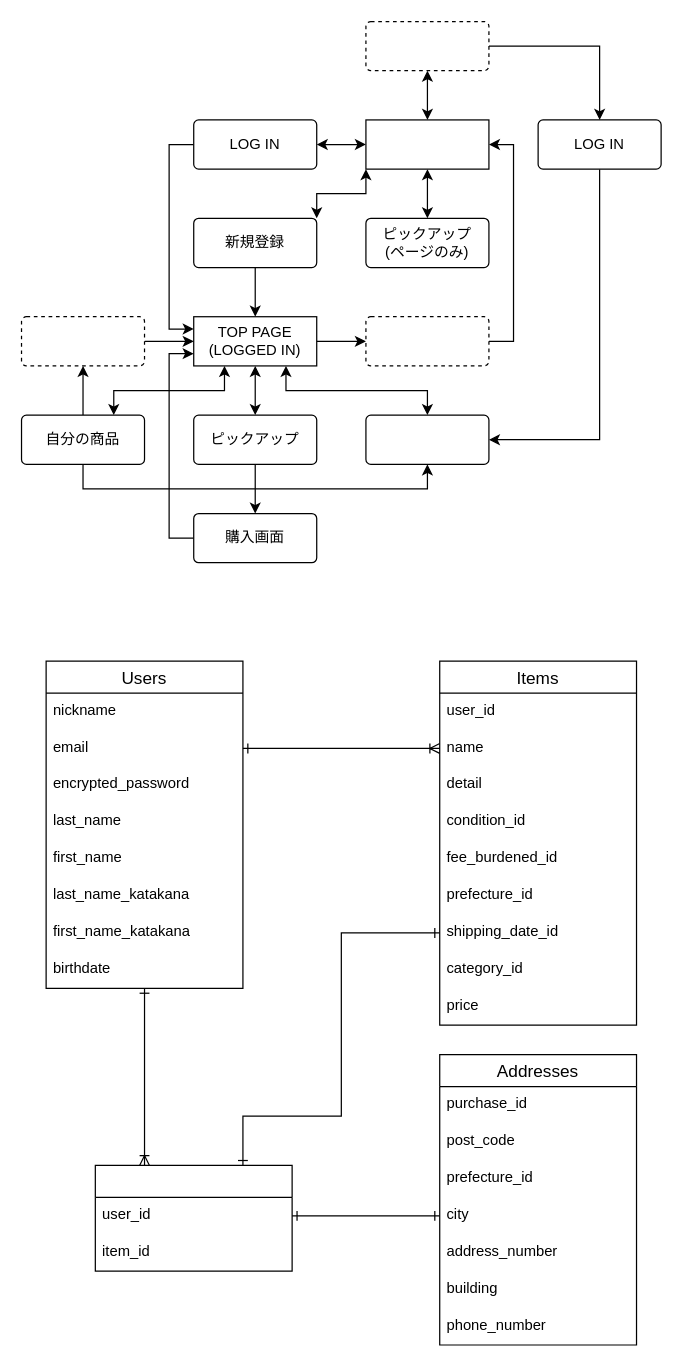
The diagram is 683 pixels wide and 1370 high, and some of its shapes have lost their labels. The shapes that lost their labels are listed below. From the top down, each one's box as (x1, y1, x2, y2) in pixels, then its label:
(365, 20, 489, 71): 出品
(365, 119, 489, 169): TOP PAGE
(20, 315, 145, 366): 削除
(365, 315, 489, 366): LOG OUT
(365, 414, 489, 464): 出品ページ
(94, 1164, 292, 1271): Purchases
